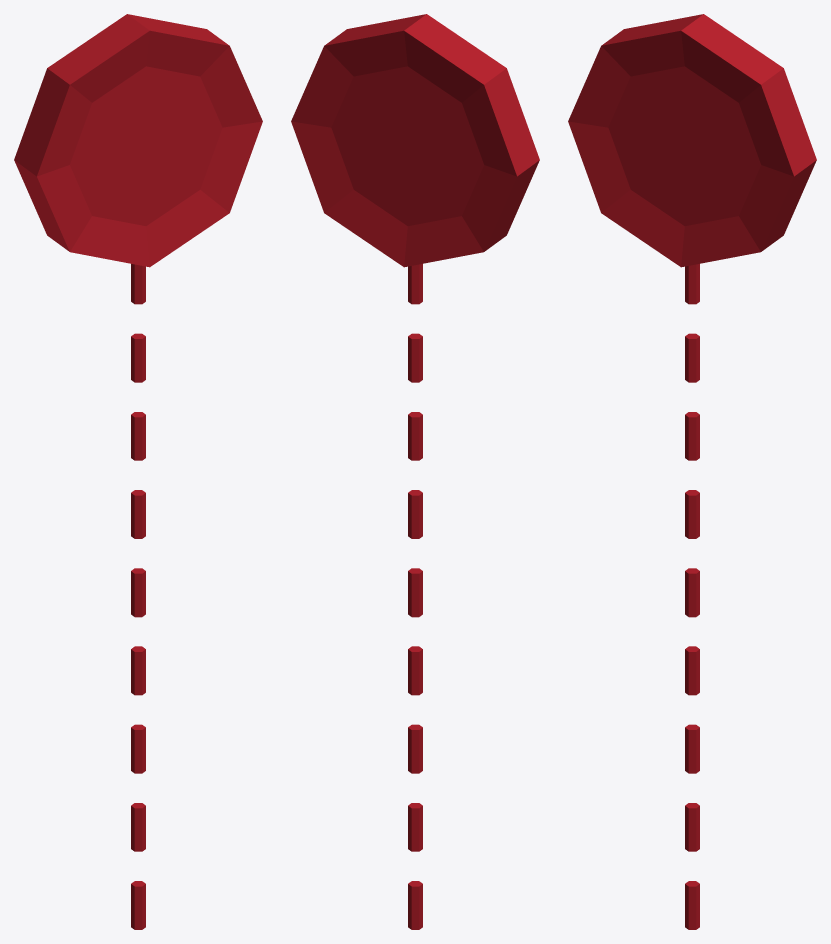
File: coin-red.gltf
3 renders of one model, left to right at view 1: azimuth 30°, elevation 25°; view 2: azimuth 150°, elevation 25°; view 3: azimuth 330°, elevation 25°, orthographic.
Visible parts, largest first — view 1: Cylinder; view 2: Cylinder; view 3: Cylinder.
Part boxes in pixels (x1,y1,x2,y2): Cylinder: (14, 14, 262, 929); Cylinder: (291, 14, 539, 929); Cylinder: (568, 14, 816, 929).
Size of the model in its own units: 1.01 by 3.85 by 0.1757.
